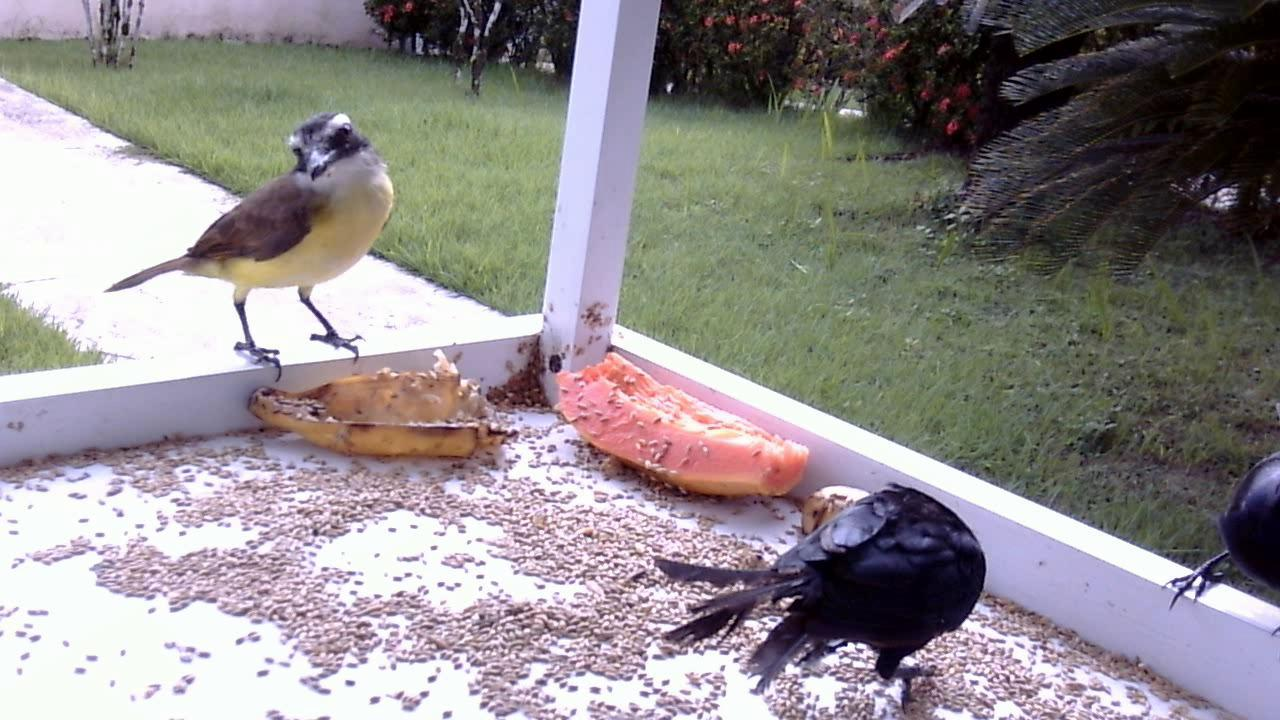bem_te_vi: (98, 104, 398, 385)
chupim: (631, 458, 1002, 711), (1154, 438, 1278, 647)
